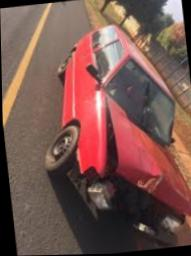Bonnet: (103, 92, 191, 225)
Bumper: (64, 161, 177, 249)
Light: (78, 172, 117, 218), (152, 208, 191, 241)
